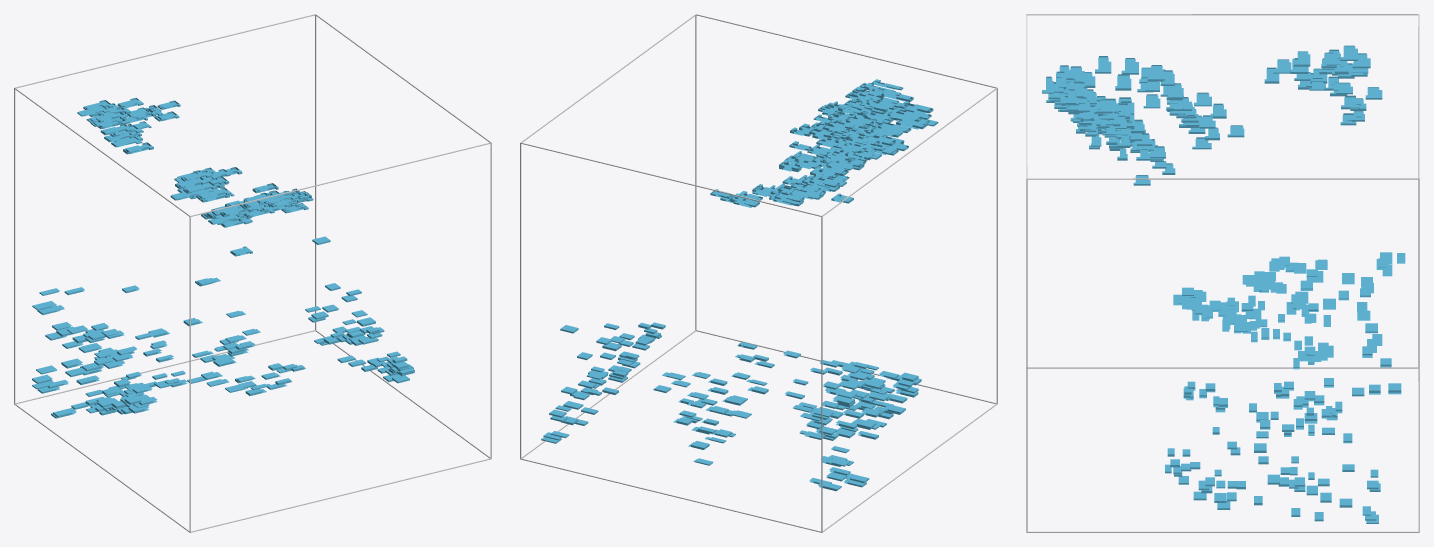
Rendered from orthogonal.glb.
The picture shows the model from 3 angles, left to right: view 1: azimuth 30°, elevation 25°; view 2: azimuth 150°, elevation 25°; view 3: azimuth 270°, elevation 25°; orthographic projection. The views are drawn at different scales.
Parts seen in each view (by area): view 1: Mesh_0, boundarz; view 2: Mesh_0, boundarz; view 3: Mesh_0, boundarz.
Part boxes in pixels (x1,y1,x2,y2): Mesh_0: (32,98,414,418); boundarz: (14,14,491,532); Mesh_0: (541,79,938,491); boundarz: (520,14,997,532); Mesh_0: (1042,45,1405,523); boundarz: (1026,14,1419,532).
Size of the model in its own units: 26.56 by 26.48 by 26.67.
